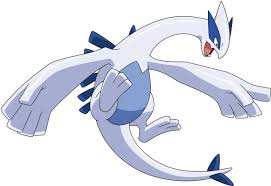lugia: (197, 2, 233, 59)
